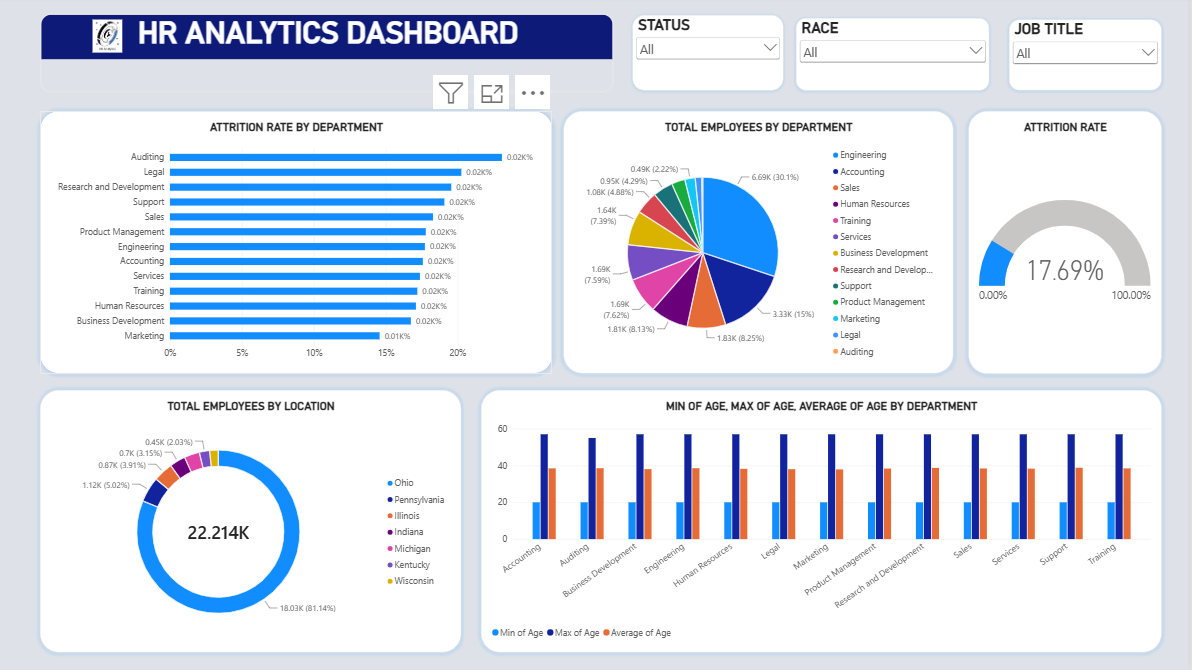

The page's visual inventory and layout, read from the dashboard file:
{"tool":"powerbi","page":{"name":"Page 2","canvas":[1920,1080],"ordinal":1},"visuals":[{"type":"textbox","box":[150.3,341.2,300.6,71.6],"z":0},{"type":"textbox","title":"HR ANALYTICS DASHBOARD","box":[95,30,912.5,125],"z":1000},{"type":"image","box":[150,40,105,52.5],"z":2000},{"type":"pieChart","title":"TOTAL EMPLOYEES BY DEPARTMENT","fields":{"Category":["project_hr_analytics HR.department"],"Y":["project_hr_analytics HR.TotalEmployees"]},"box":[927.5,185,620,417.5],"z":3000},{"type":"clusteredBarChart","title":"ATTRITION RATE BY DEPARTMENT","fields":{"Category":["project_hr_analytics HR.department"],"Y":["project_hr_analytics HR.Attrition Rate"]},"box":[95,185,815,417.5],"z":4000},{"type":"gauge","title":"ATTRITION RATE","fields":{"Y":["project_hr_analytics HR.Attrition Rate"]},"box":[1572.5,185,307,418],"z":5000},{"type":"donutChart","title":"TOTAL EMPLOYEES BY LOCATION","fields":{"Category":["project_hr_analytics HR.location_state"],"Y":["project_hr_analytics HR.TotalEmployees"]},"box":[95,630,670,417.5],"z":6000},{"type":"clusteredColumnChart","title":"MIN OF AGE, MAX OF AGE, AVERAGE OF AGE BY DEPARTMENT","fields":{"Category":["project_hr_analytics HR.department"],"Y":["project_hr_analytics HR.Min of Age","project_hr_analytics HR.Max of Age","project_hr_analytics HR.Average of Age"]},"box":[797.5,630,1082.5,417.5],"z":7000},{"type":"slicer","fields":{"Values":["project_hr_analytics HR.EMP_status"]},"box":[1037.5,32.5,240,120],"z":8000},{"type":"slicer","fields":{"Values":["project_hr_analytics HR.race"]},"box":[1297.5,37.5,307.5,115],"z":9000},{"type":"slicer","fields":{"Values":["project_hr_analytics HR.jobtitle"]},"box":[1637.5,40,242.5,112.5],"z":10000}]}

Visuals, with their boxes in screenshot pixels (x1, y1, x2, y2), scaled from the page's 1920x1080 canvas onto the 1192x670 screenshot:
textbox: 93/212/280/256
"HR ANALYTICS DASHBOARD" textbox: 59/19/625/96
image: 93/25/158/57
"TOTAL EMPLOYEES BY DEPARTMENT" pieChart: 576/115/961/374
"ATTRITION RATE BY DEPARTMENT" clusteredBarChart: 59/115/565/374
"ATTRITION RATE" gauge: 976/115/1167/374
"TOTAL EMPLOYEES BY LOCATION" donutChart: 59/391/475/650
"MIN OF AGE, MAX OF AGE, AVERAGE OF AGE BY DEPARTMENT" clusteredColumnChart: 495/391/1167/650
slicer - project_hr_analytics HR.EMP_status: 644/20/793/95
slicer - project_hr_analytics HR.race: 806/23/996/95
slicer - project_hr_analytics HR.jobtitle: 1017/25/1167/95
